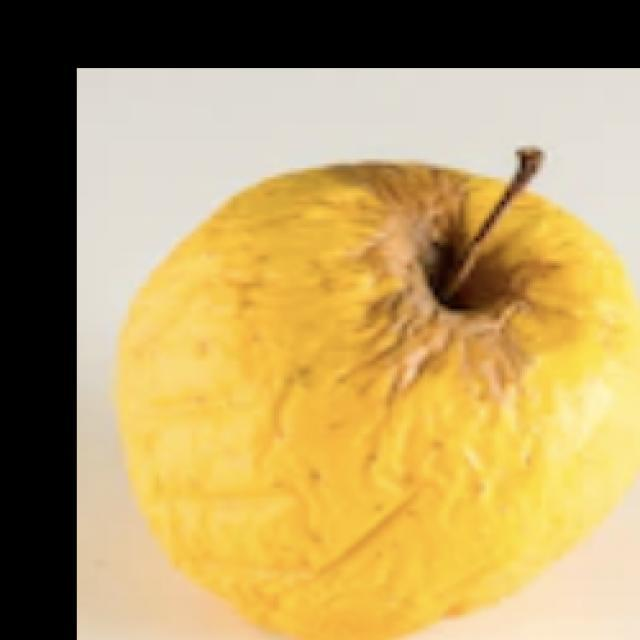Rotten: (104, 158, 640, 640)
